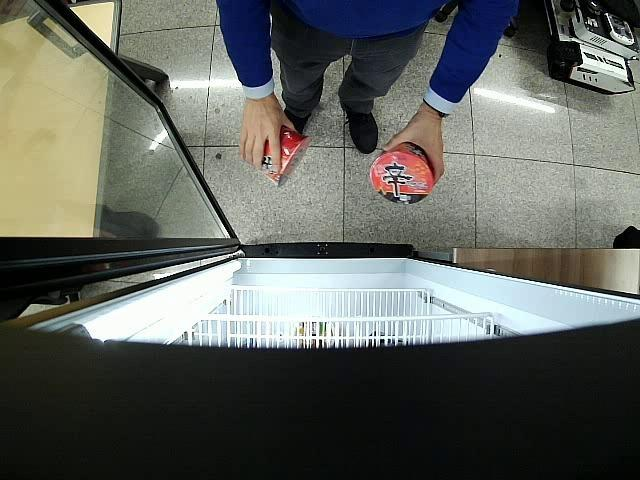01_ShinRamen_L: (370, 142, 434, 204), (261, 125, 311, 188)
